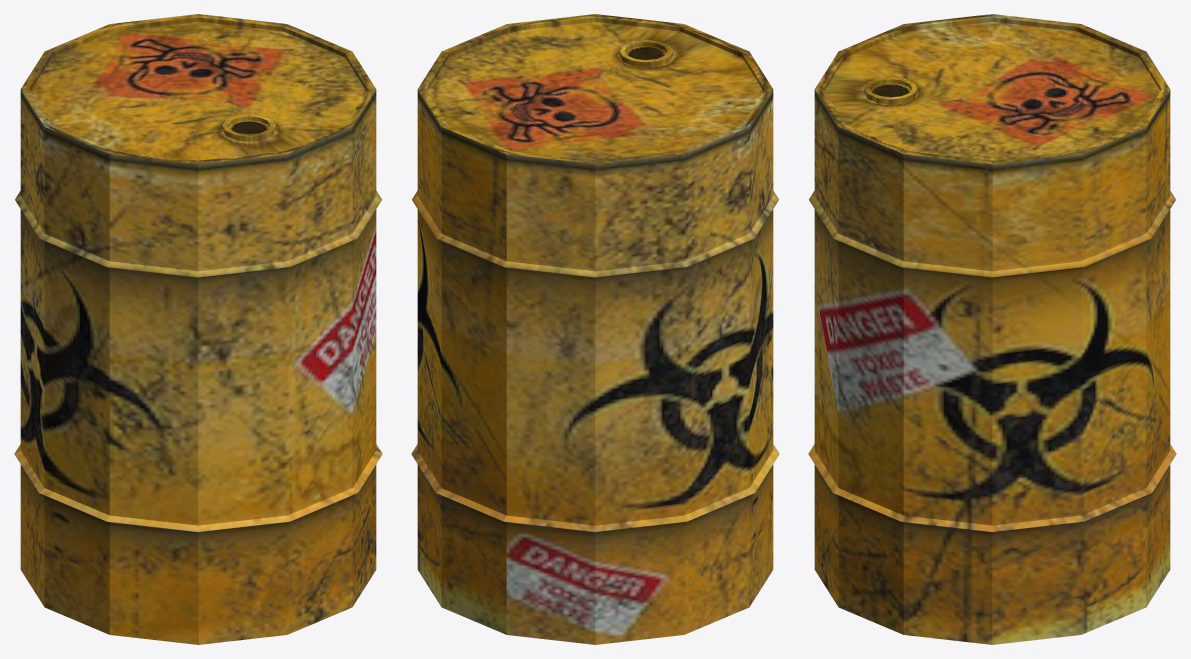
File: barrel_pack_02.glb
The picture shows the model from 3 angles, left to right: view 1: azimuth 30°, elevation 25°; view 2: azimuth 150°, elevation 25°; view 3: azimuth 270°, elevation 25°; orthographic projection.
Visible parts, largest first — view 1: Cylinder.002_Material.002_0; view 2: Cylinder.002_Material.002_0; view 3: Cylinder.002_Material.002_0.
Boxes of the visible parts, x1=… form: Cylinder.002_Material.002_0: x1=14, y1=14, x2=382, y2=644; Cylinder.002_Material.002_0: x1=411, y1=14, x2=779, y2=644; Cylinder.002_Material.002_0: x1=808, y1=14, x2=1176, y2=644.
Size of the model in its own units: 0.6936 by 1 by 0.6936.
1 material, 1 textured.
